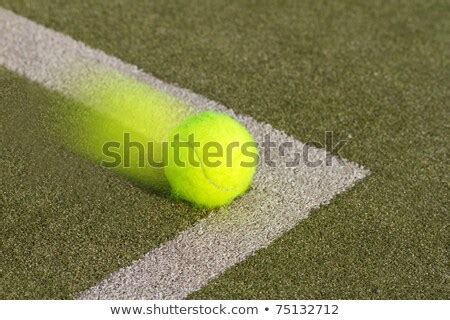tennis_ball: (162, 112, 256, 208)
